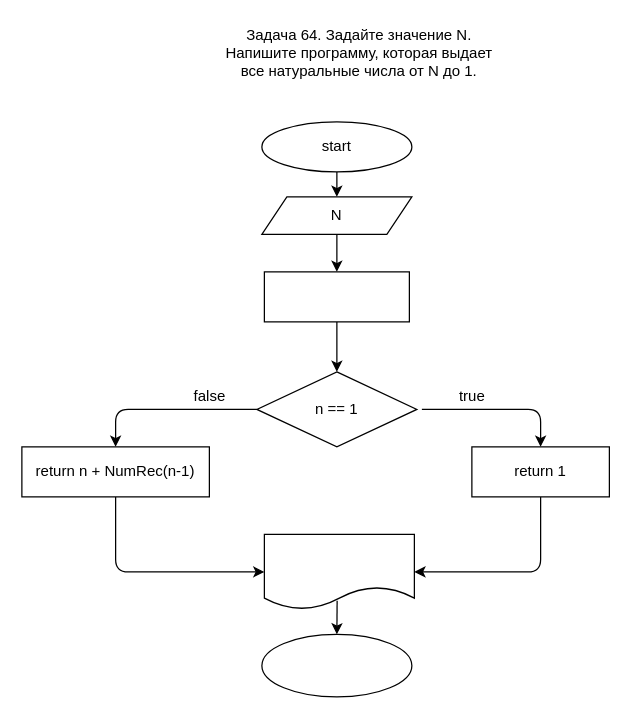
The diagram is 631 pixels wide and 719 high, and some of its shapes have lost their labels. Here are the shapes that lost their labels. From the top down, the centre of each, then its label:
At [336,296]: "NumRec".
At [336,665]: "finish".
